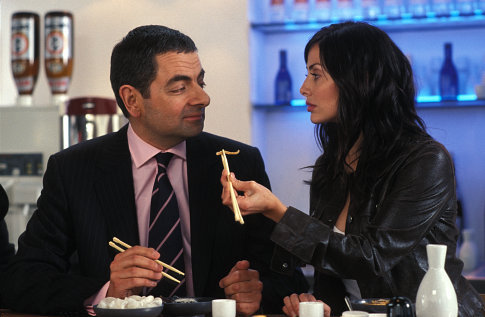33: (291, 31, 358, 135)
37: (131, 35, 217, 152)
Coat: (12, 130, 321, 317)
Female: (291, 31, 358, 135)
Jacket: (264, 114, 485, 315)
Male: (131, 35, 217, 152)
Tie: (141, 142, 195, 317)
